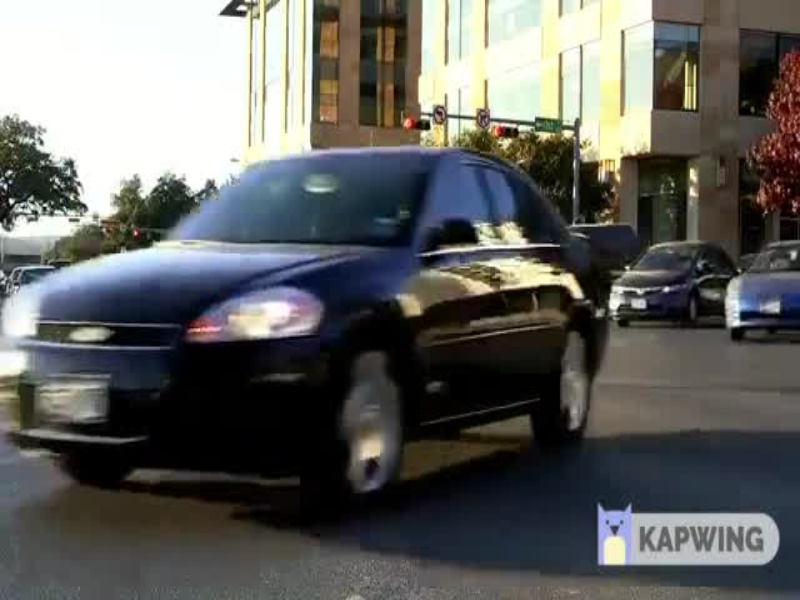car: (1, 115, 614, 484), (609, 234, 737, 323), (726, 231, 800, 346)
